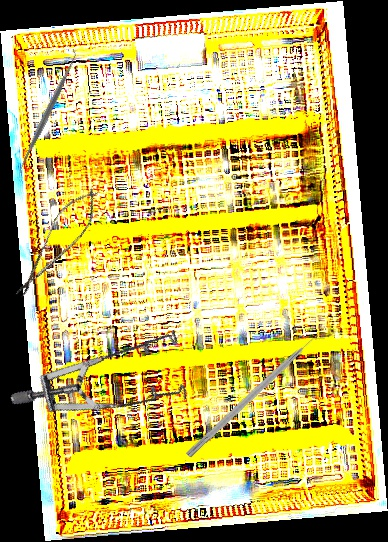Chopper: (185, 329, 329, 466)
Micro Scissor: (6, 179, 109, 307)
Spatula Surgical: (11, 47, 85, 176)
Speculum: (8, 281, 208, 463)
